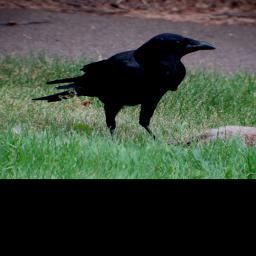Crow: (26, 21, 221, 147)
